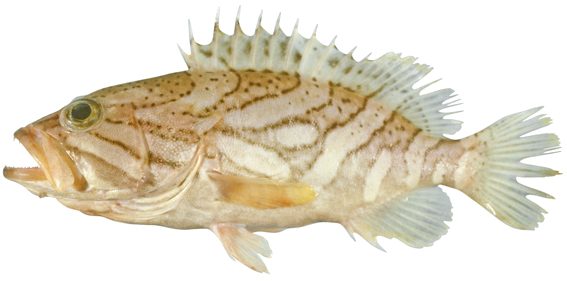fish: (3, 4, 563, 275)
